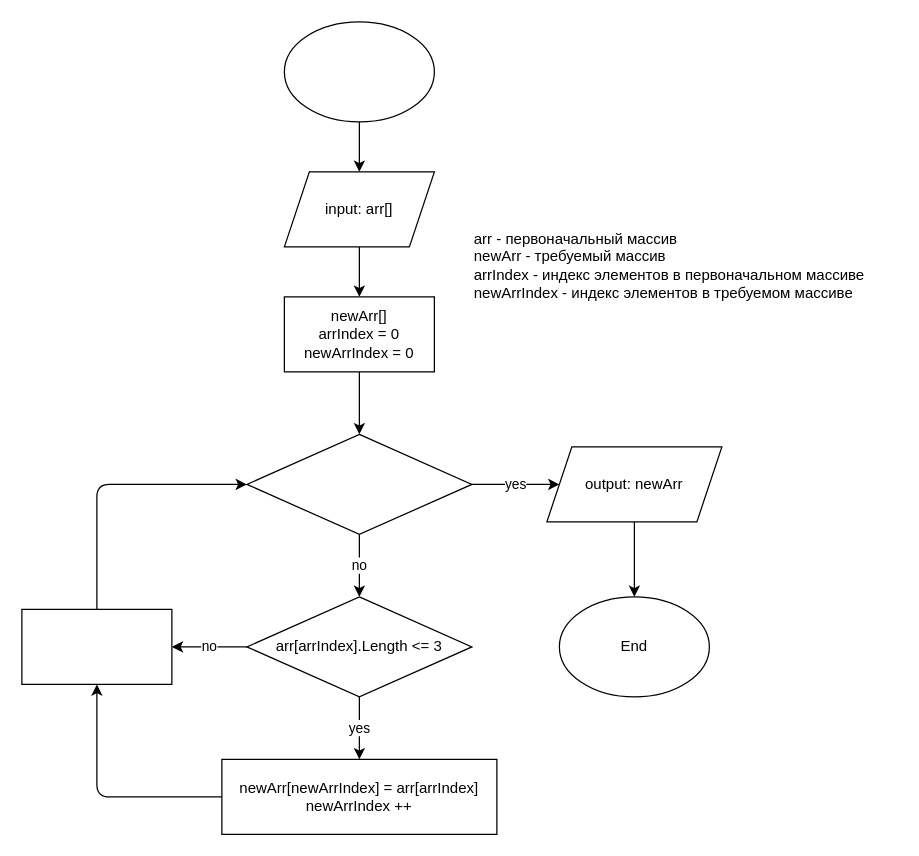
This 919x856 diagram has some shape labels left out. The shapes that lost their labels are listed below. From the top down, each one's centre as x and y in pixels, then its label:
At (x=358, y=71): "Start".
At (x=359, y=483): "arrIndex = arr.Length -1".
At (x=96, y=646): "arrIndex ++".
